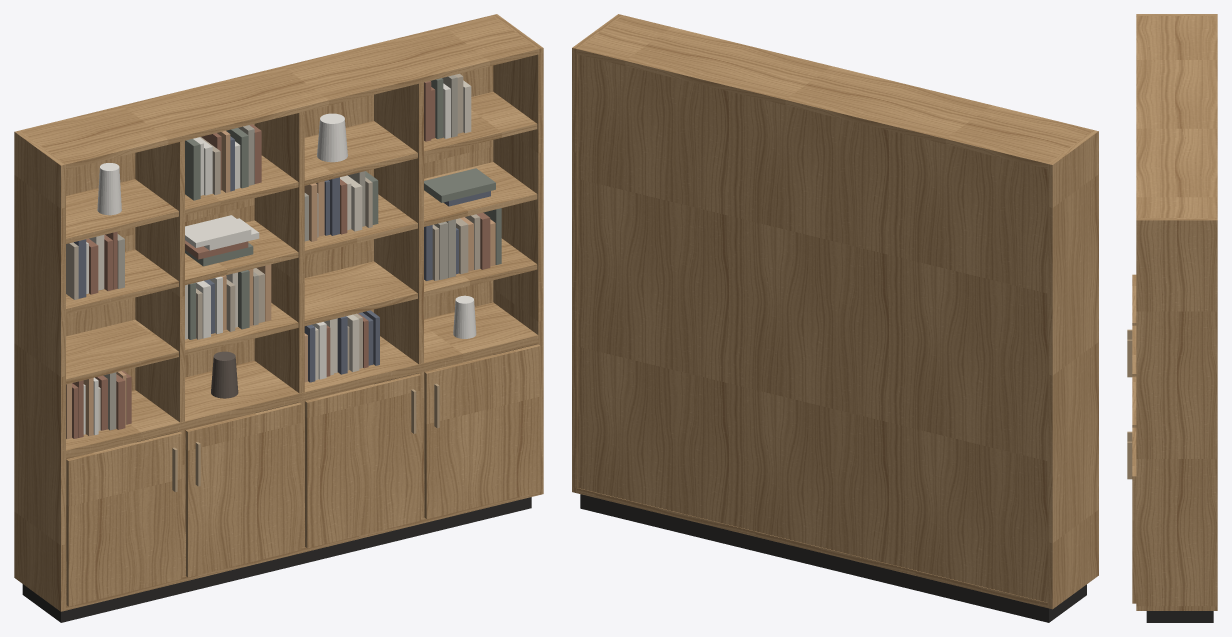
The model's file is libreria-240x220.glb.
3 renders of one model, left to right at view 1: azimuth 30°, elevation 25°; view 2: azimuth 150°, elevation 25°; view 3: azimuth 270°, elevation 25°, orthographic. The views are drawn at different scales.
Parts seen in each view (by area): view 1: finitura, schienale, libro3, libro1, zoccolo, libro4, libro0, libro5, libro6, libro7, libro2, ceramica (+2 smaller); view 2: schienale, finitura, zoccolo; view 3: finitura, zoccolo, bronzo.
Part boxes in pixels (x1,y1,x2,y2): finitura: (14,14,543,611); schienale: (66,65,493,560); libro3: (72,81,490,438); libro1: (185,78,501,339); zoccolo: (22,497,531,622); libro4: (83,83,450,435); libro0: (66,73,480,370); libro5: (74,136,490,382); libro6: (66,131,495,439); libro7: (103,75,457,430); libro2: (89,80,471,430); ceramica: (97,113,476,338); schienale: (577,54,1047,602); finitura: (572,14,1098,609); zoccolo: (580,494,1086,622); finitura: (1132,14,1217,610); zoccolo: (1146,611,1213,622); bronzo: (1127,329,1132,479).
Size of the model in its own units: 2.4 by 2.2 by 0.445.
Materials: 15 (2 with a texture image).
